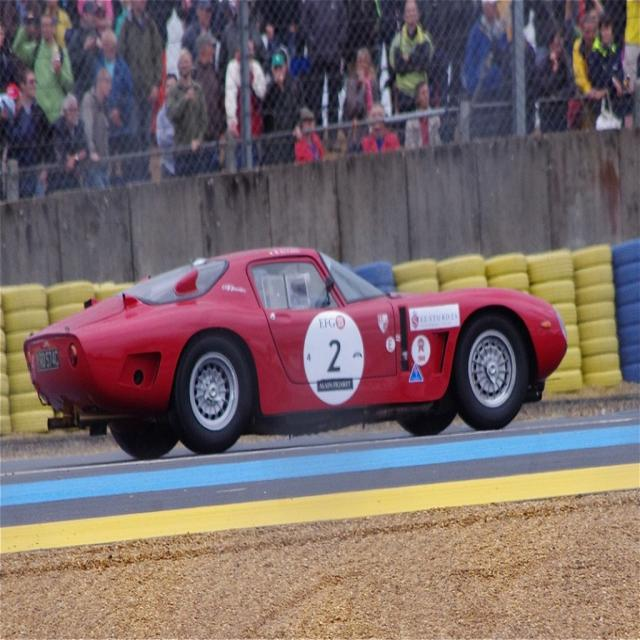car: (22, 234, 597, 454)
